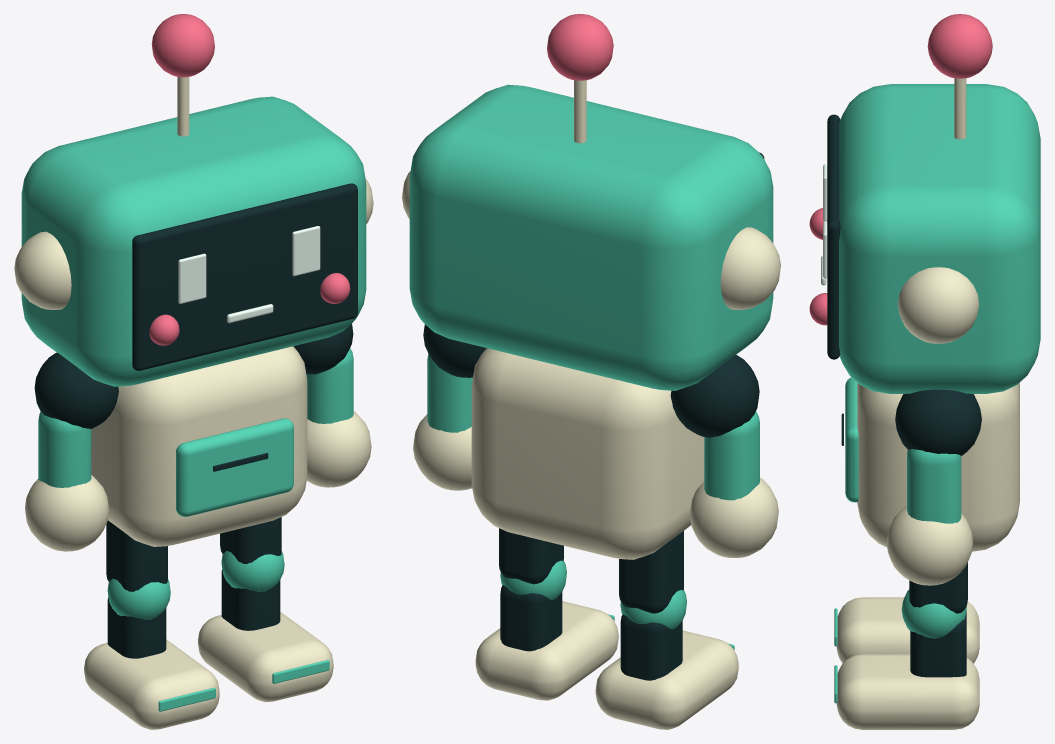
Rendered from boop.glb.
The picture shows the model from 3 angles, left to right: view 1: azimuth 30°, elevation 25°; view 2: azimuth 150°, elevation 25°; view 3: azimuth 270°, elevation 25°; orthographic projection. The views are drawn at different scales.
Visible parts, largest first — view 1: BOT_head, Face glass, BOT_body, Utility pocket, Sneaker left, Sneaker right, Mitten right, Shoulder right, Mitten left, Ear hinge.001, Arm right, Antenna heart (+15 smaller); view 2: BOT_head, BOT_body, Sneaker right, Sneaker left, Mitten right, Shoulder right, Ear hinge.001, Arm right, Thigh right, Antenna heart, Shin right, Shin left (+7 smaller); view 3: BOT_head, BOT_body, Sneaker left, Ear hinge, Mitten left, Shoulder left, Sneaker right, Arm left, Antenna heart, Face glass, Shin left, Knee cap left (+4 smaller).
Part boxes in pixels (bbox=[...]): BOT_head: bbox=[21, 96, 366, 386]; Face glass: bbox=[132, 183, 357, 370]; BOT_body: bbox=[91, 346, 307, 546]; Utility pocket: bbox=[176, 418, 293, 516]; Sneaker left: bbox=[198, 612, 333, 702]; Sneaker right: bbox=[84, 639, 219, 729]; Mitten right: bbox=[25, 475, 109, 551]; Shoulder right: bbox=[34, 352, 118, 428]; Mitten left: bbox=[306, 411, 371, 487]; Ear hinge.001: bbox=[14, 231, 71, 309]; Arm right: bbox=[38, 412, 91, 487]; Antenna heart: bbox=[151, 14, 214, 77]; BOT_head: bbox=[409, 84, 773, 390]; BOT_body: bbox=[471, 348, 704, 559]; Sneaker right: bbox=[595, 630, 738, 729]; Sneaker left: bbox=[475, 601, 618, 700]; Mitten right: bbox=[690, 477, 778, 557]; Shoulder right: bbox=[670, 355, 759, 437]; Ear hinge.001: bbox=[720, 227, 780, 309]; Arm right: bbox=[704, 411, 759, 500]; Thigh right: bbox=[619, 531, 683, 613]; Antenna heart: bbox=[547, 14, 613, 80]; Shin right: bbox=[620, 614, 682, 680]; Shin left: bbox=[500, 585, 562, 651]; BOT_head: bbox=[839, 84, 1040, 393]; BOT_body: bbox=[857, 382, 1019, 551]; Sneaker left: bbox=[836, 654, 979, 729]; Ear hinge: bbox=[898, 267, 979, 343]; Mitten left: bbox=[886, 506, 973, 585]; Shoulder left: bbox=[895, 389, 981, 455]; Sneaker right: bbox=[836, 597, 979, 663]; Arm left: bbox=[907, 449, 961, 523]; Antenna heart: bbox=[927, 14, 992, 78]; Face glass: bbox=[827, 114, 840, 359]; Shin left: bbox=[910, 616, 966, 677]; Knee cap left: bbox=[901, 589, 966, 638].
Bounding box in the file's own units: 1.9 × 3.42 × 1.06.
